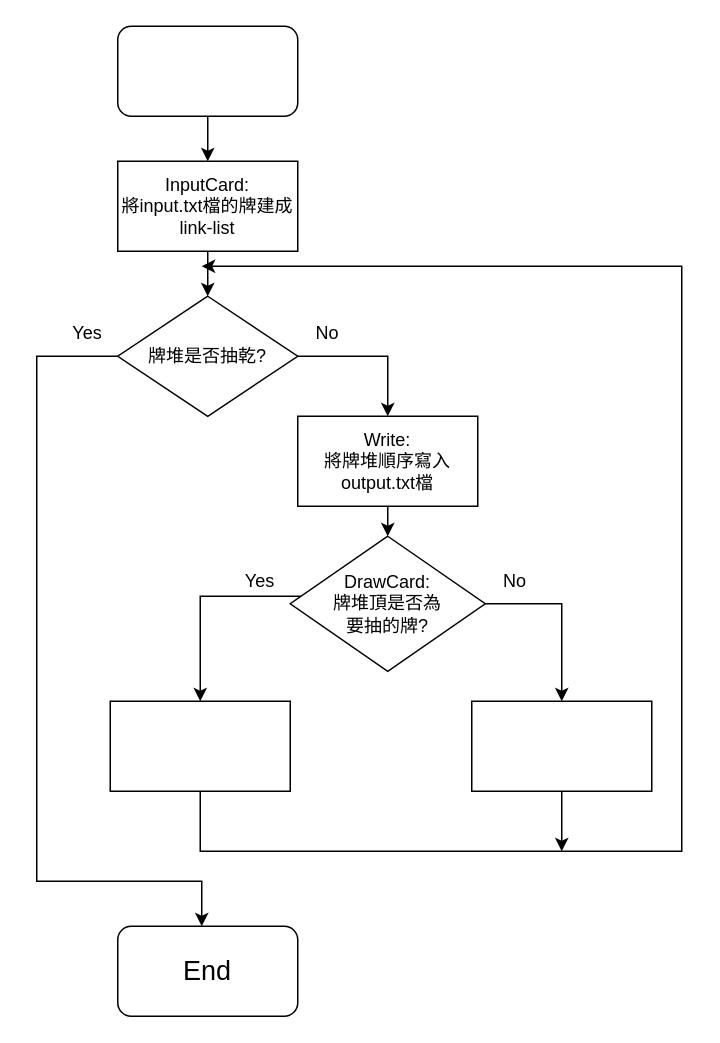
This 720x1043 diagram has some shape labels left out. Here are the shapes that lost their labels. From the top down, the centre of each, then its label:
At (x=207, y=70): "Start".
At (x=199, y=745): "MoveCard: 將牌堆頂牌移出牌堆 (link-list)".
At (x=561, y=745): "MoveCard: 將牌堆頂的牌移至底部".
